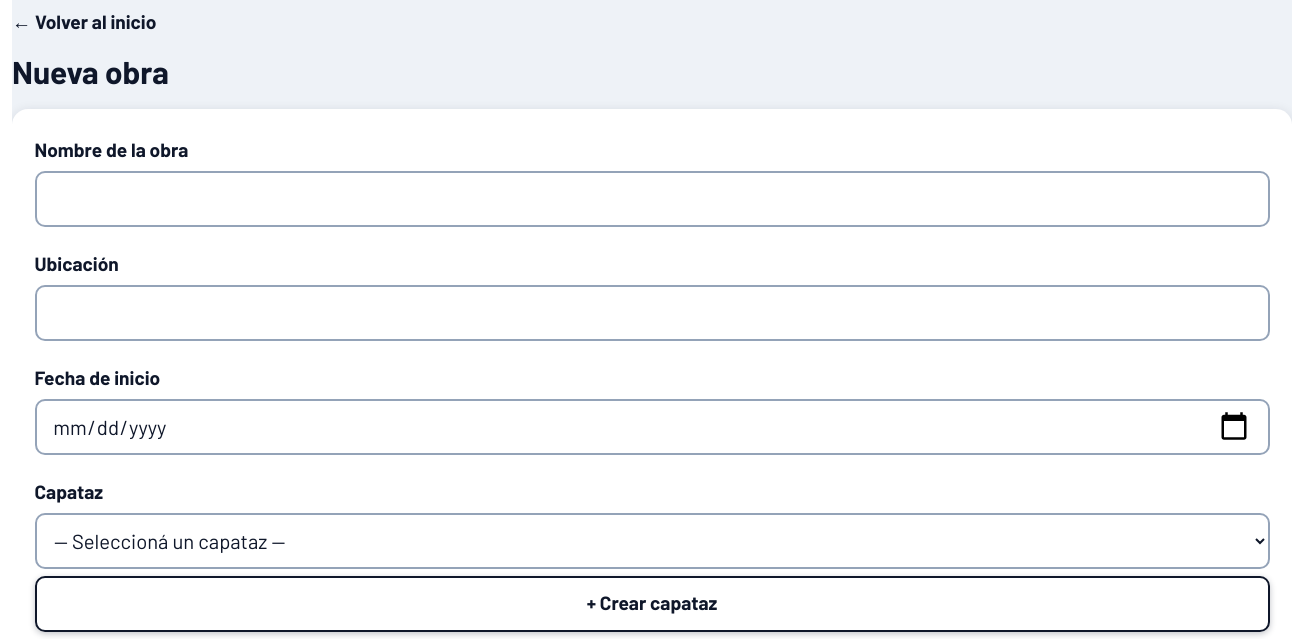
Test case: NuevaObraPage - validar la ubicación con el mapa (#113) › editar la ubicación borra la confirmación anterior
In the field labelled "Ubicación": (652, 313) left=34, top=285, right=1270, bottom=341, type "Calle Inexistente 123"
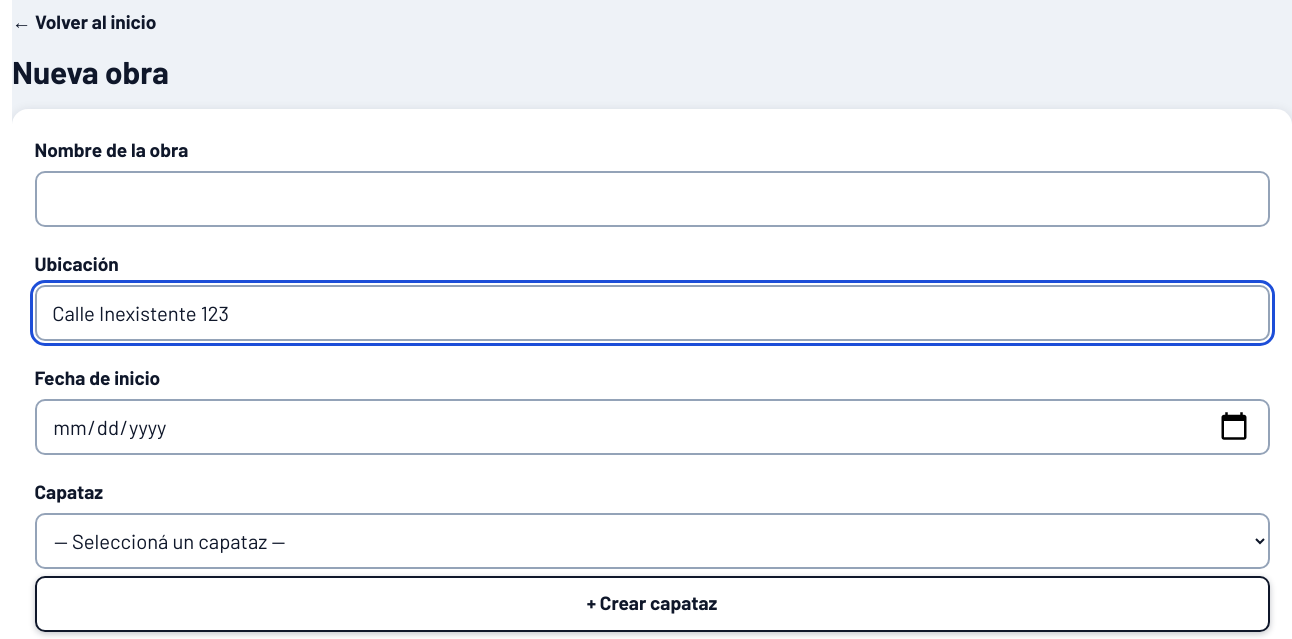
Press Tab
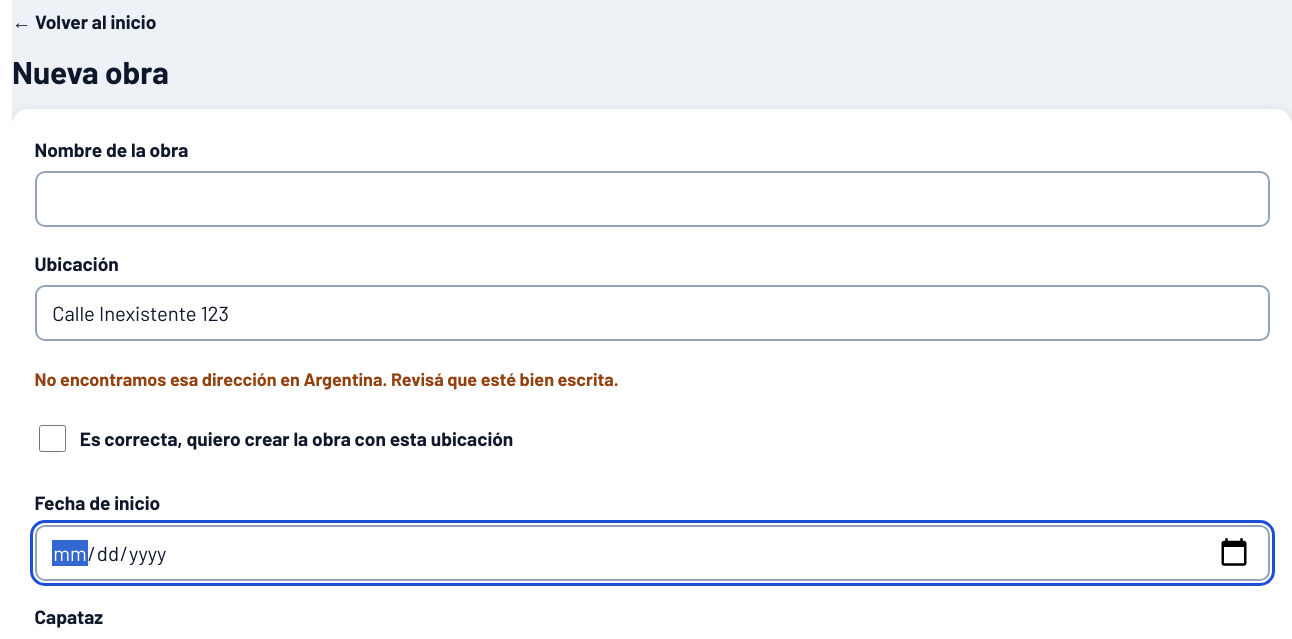
Click the checkbox labelled "Es correcta, quiero crear la obra con esta ubicación": (52, 439) left=38, top=425, right=66, bottom=452
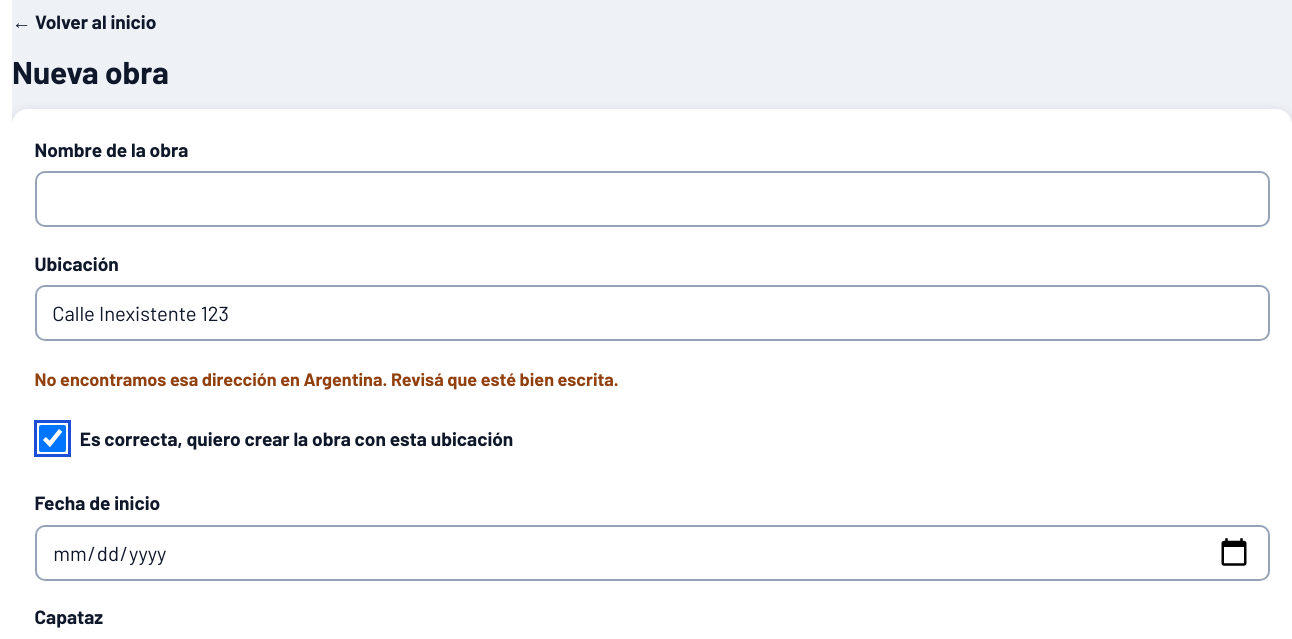
Result: the checkbox labelled "Es correcta, quiero crear la obra con esta ubicación" is checked at left=38, top=425, right=66, bottom=452
In the field labelled "Ubicación": (652, 313) left=34, top=285, right=1270, bottom=341, type "4"
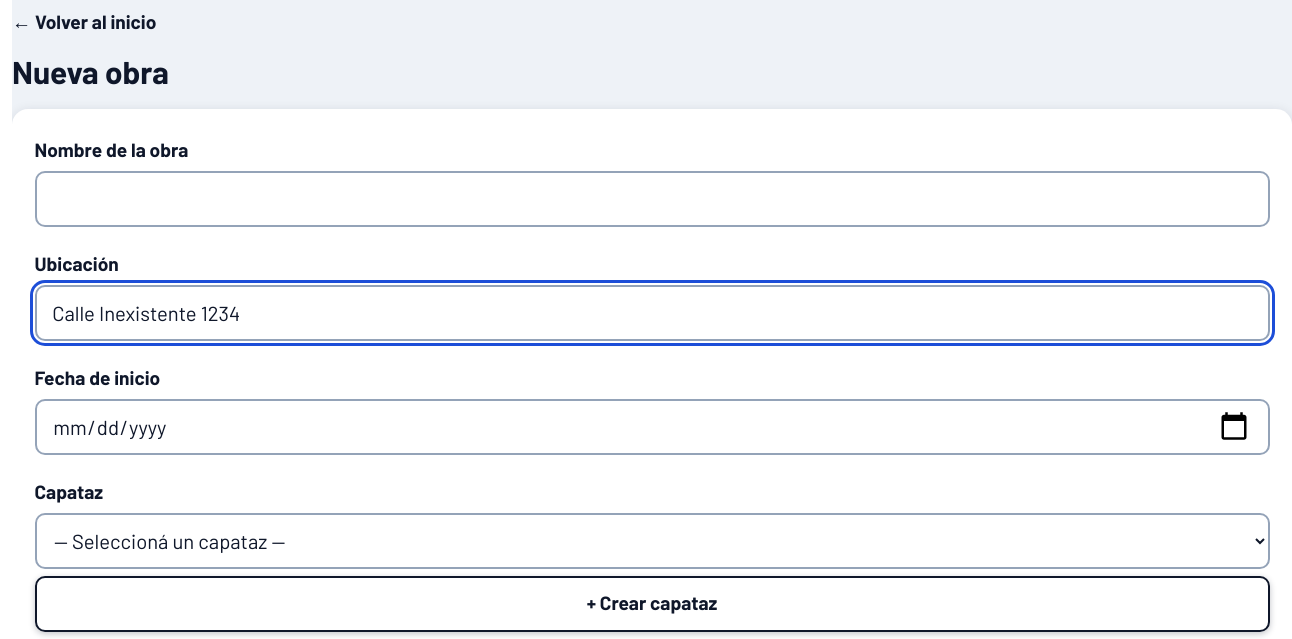
Result: the text "No encontramos esa dirección" is gone
